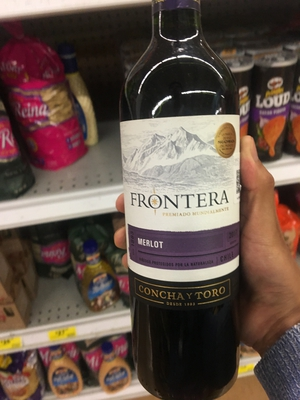frontera merlot: (109, 5, 288, 393)
